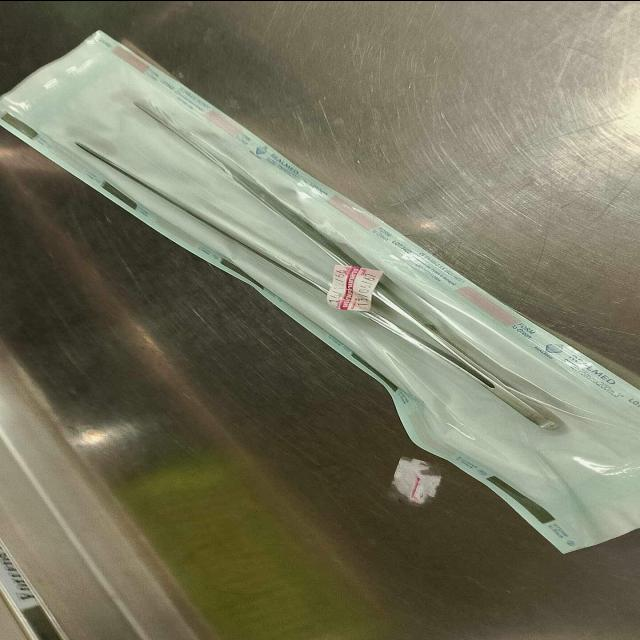General: (1, 28, 636, 556)
Sharps: (126, 100, 564, 430)
